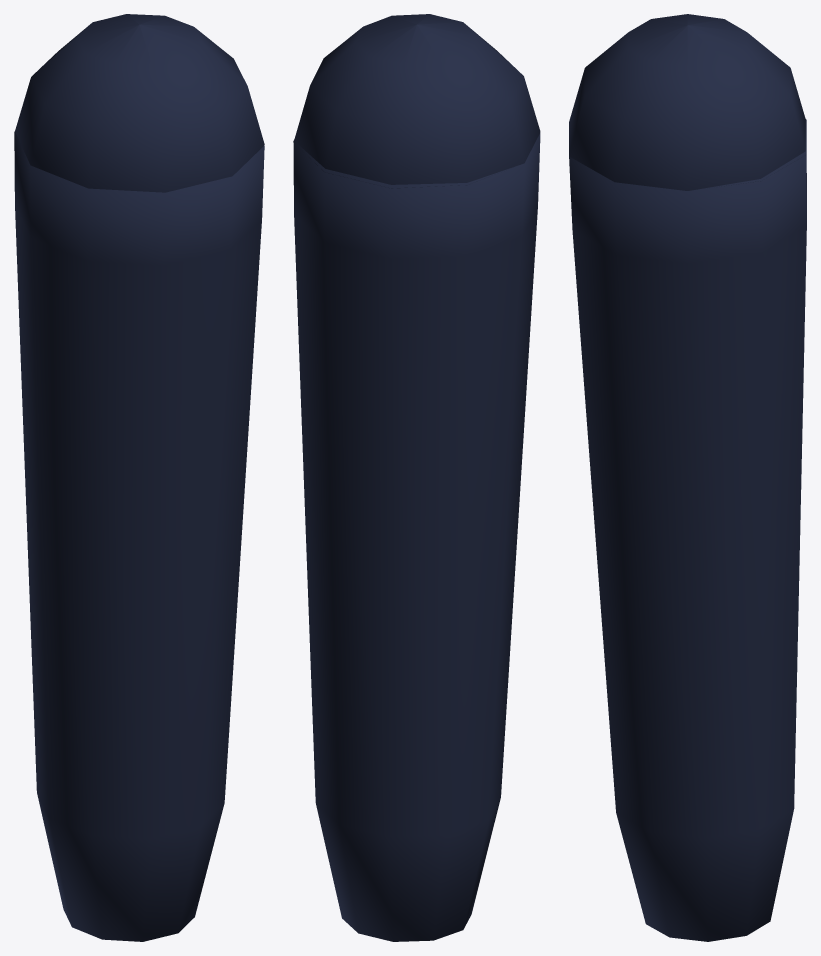
File: shin_L.obj
The picture shows the model from 3 angles, left to right: view 1: azimuth 30°, elevation 25°; view 2: azimuth 150°, elevation 25°; view 3: azimuth 270°, elevation 25°; orthographic projection.
Visible parts, largest first — view 1: shin_L; view 2: shin_L; view 3: shin_L.
Part boxes in pixels (<box>): shin_L: <box>14,14,264,941</box>; shin_L: <box>293,14,540,941</box>; shin_L: <box>569,14,806,941</box>.
Size of the model in its own units: 0.137 by 0.5484 by 0.1305.
